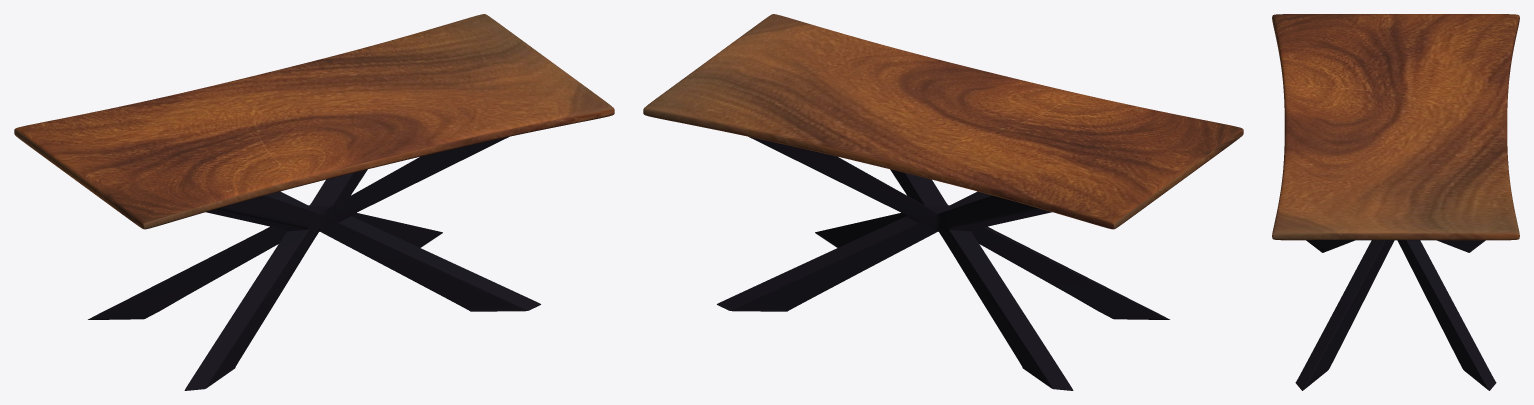
Rendered from TABLE1.fbx.
The picture shows the model from 3 angles, left to right: view 1: azimuth 30°, elevation 25°; view 2: azimuth 150°, elevation 25°; view 3: azimuth 270°, elevation 25°; orthographic projection. The views are drawn at different scales.
Visible parts, largest first — view 1: Plane.001; view 2: Plane.001; view 3: Plane.001.
Boxes of the visible parts, <box> form: Plane.001: <box>14,14,614,390</box>; Plane.001: <box>643,14,1243,390</box>; Plane.001: <box>1272,14,1519,390</box>.
Bounding box in the file's own units: 213 × 84.64 × 102.
